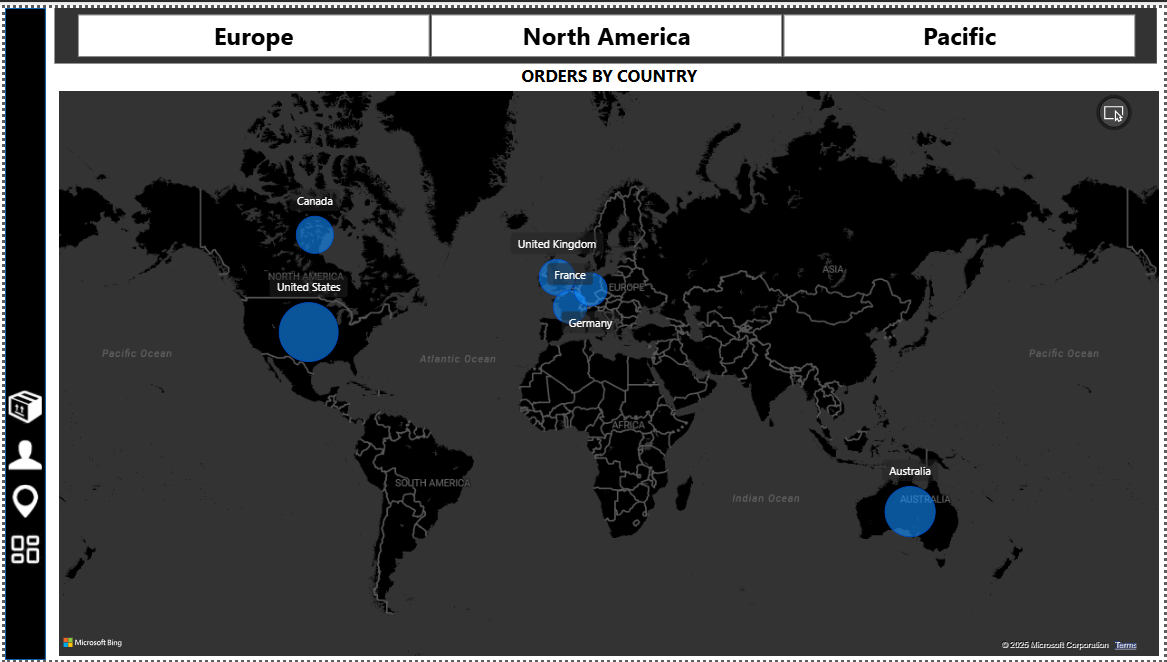

This screenshot's page, from the dashboard's own definition file:
{"tool":"powerbi","page":{"name":"Map","canvas":[1280,720],"ordinal":6},"visuals":[{"type":"map","title":"ORDERS BY COUNTRY","fields":{"Category":["Territory Lookup.Country"],"Size":["Table Measure.Total Orders"]},"box":[55.3,61.2,1224.9,658.8],"z":0},{"type":"actionButton","box":[0,571.7,44.8,52.3],"z":0,"group":"g1"},{"type":"slicer","fields":{"Values":["Territory Lookup.Continent"]},"box":[55.3,0,1217.4,61.2],"z":1000},{"type":"actionButton","box":[0,467.2,44.8,52.3],"z":1000,"group":"g1"},{"type":"shape","box":[0,0,45,720],"z":2000},{"type":"actionButton","box":[0,519.5,44.8,52.3],"z":2000,"group":"g1"},{"type":"actionButton","box":[0,414.9,44.8,52.3],"z":3000,"group":"g1"},{"type":"group","id":"g1","title":"Custom Navigation Button","box":[0,414.9,44.8,209.1],"z":3000}]}

Visuals, with their boxes in screenshot pixels (x1, y1, x2, y2):
"ORDERS BY COUNTRY" map: (x1=53, y1=58, x2=1154, y2=650)
actionButton: (x1=3, y1=517, x2=43, y2=564)
slicer - Territory Lookup.Continent: (x1=53, y1=3, x2=1147, y2=58)
actionButton: (x1=3, y1=423, x2=43, y2=470)
shape: (x1=3, y1=3, x2=43, y2=650)
actionButton: (x1=3, y1=470, x2=43, y2=517)
actionButton: (x1=3, y1=376, x2=43, y2=423)
"Custom Navigation Button" group: (x1=3, y1=376, x2=43, y2=564)
